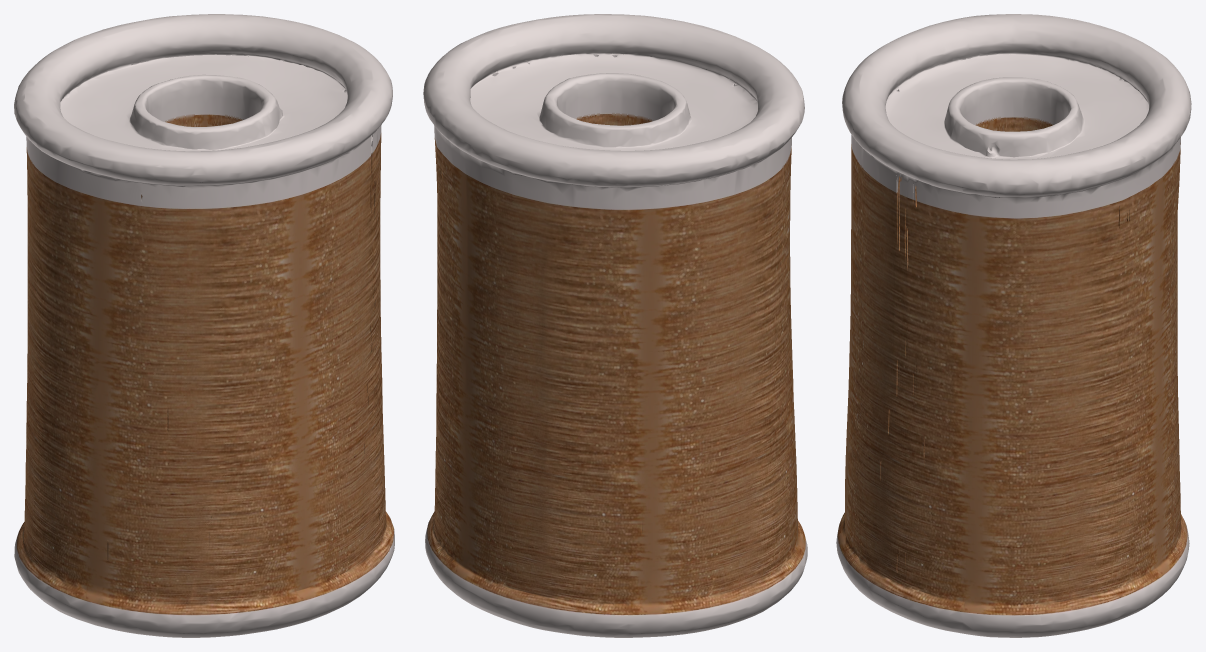
The model's file is antic-silk-fast-quality.glb.
3 views of the same model, side by side, from view 1: azimuth 30°, elevation 25°; view 2: azimuth 150°, elevation 25°; view 3: azimuth 270°, elevation 25° (orthographic). The views are drawn at different scales.
Parts seen in each view (by area): view 1: world; view 2: world; view 3: world.
Boxes of the visible parts, x1,y1,x2,y2 form: world: (14, 14, 394, 637); world: (423, 14, 807, 637); world: (836, 14, 1191, 637).
Bounding box in the file's own units: 0.7304 × 1 × 0.676.
2 materials, 1 textured.
